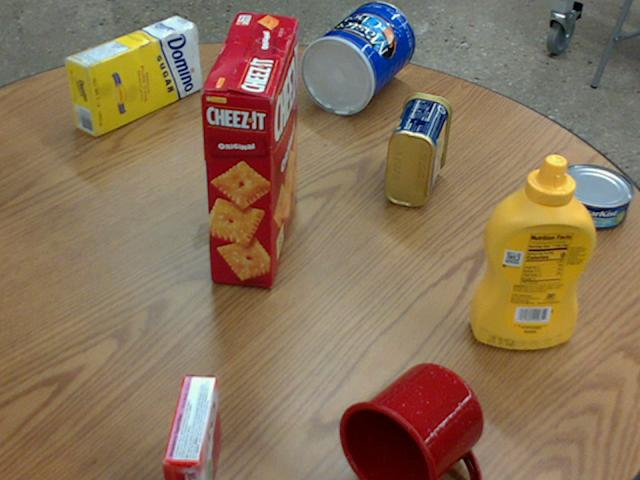cracker_box: (201, 13, 300, 287)
gelatin_box: (155, 376, 216, 479)
master_chef_can: (298, 1, 413, 113)
mug: (336, 364, 481, 479)
mustard_bottle: (468, 154, 593, 348)
potted_meat_can: (384, 92, 450, 205)
sugar_box: (64, 15, 199, 135)
tuna_fish_can: (549, 163, 630, 230)
